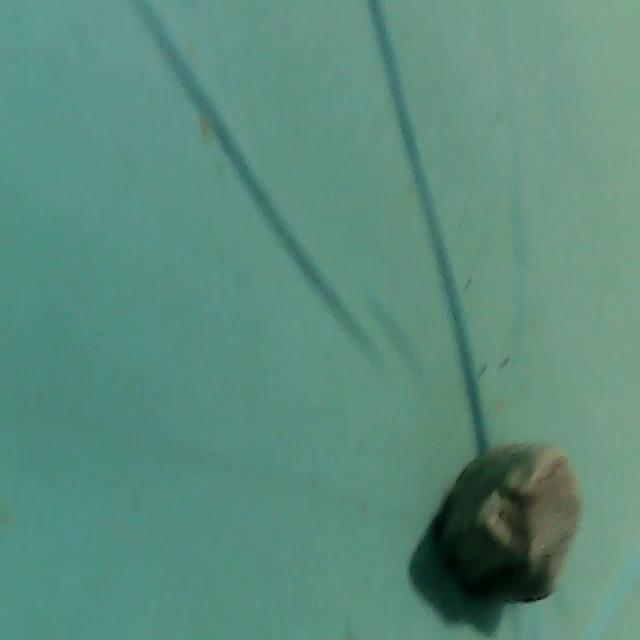rock: (437, 432, 590, 609)
